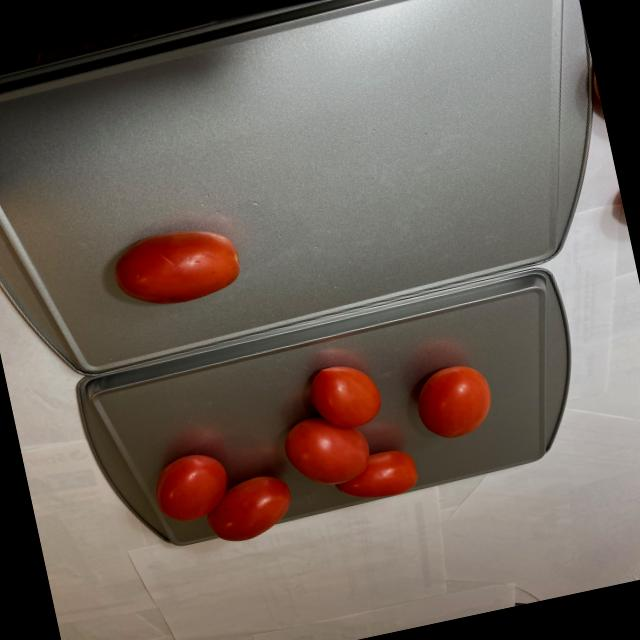tomato: (132, 325, 528, 554), (95, 218, 248, 322)
